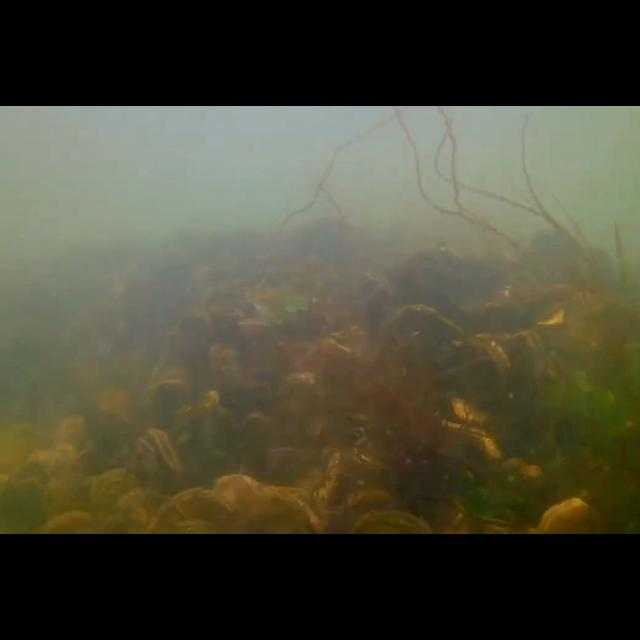Oyster-Closed: (216, 472, 314, 534), (86, 468, 154, 534), (384, 304, 464, 354), (150, 488, 236, 534), (475, 330, 549, 380), (449, 338, 509, 389), (437, 418, 503, 458), (538, 496, 602, 534), (350, 444, 400, 474), (451, 396, 502, 422)
Oyster-Open: (130, 429, 186, 509), (316, 444, 342, 514), (170, 391, 220, 422)
